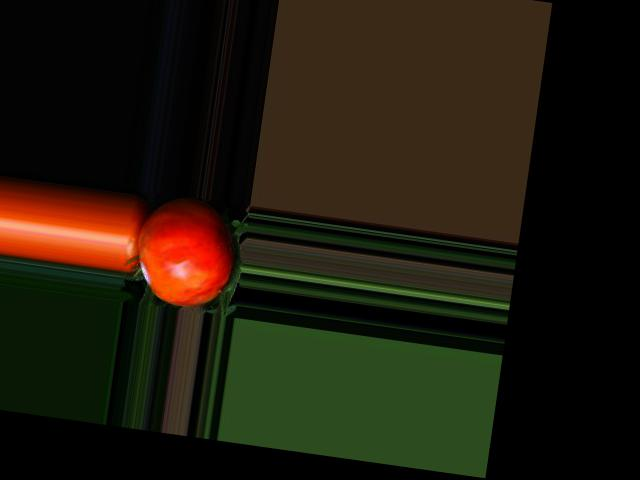tomato: (130, 191, 240, 311)
